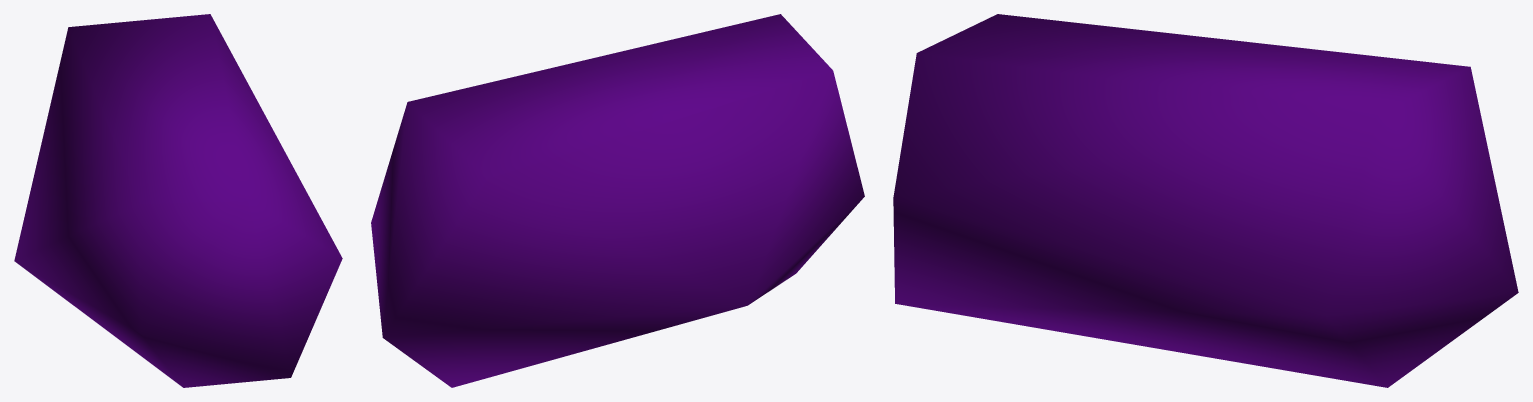
The model's file is AsteroidParticle_04.fbx.
3 renders of one model, left to right at view 1: azimuth 30°, elevation 25°; view 2: azimuth 150°, elevation 25°; view 3: azimuth 270°, elevation 25°, orthographic. The views are drawn at different scales.
Parts seen in each view (by area): view 1: AsteroidParticle_04; view 2: AsteroidParticle_04; view 3: AsteroidParticle_04.
Part boxes in pixels (x1,y1,x2,y2): AsteroidParticle_04: [14, 14, 342, 387]; AsteroidParticle_04: [371, 14, 864, 387]; AsteroidParticle_04: [893, 14, 1518, 387].
Size of the model in its own units: 2.55 by 1.92 by 3.64.
Materials: 1 (1 with a texture image).
